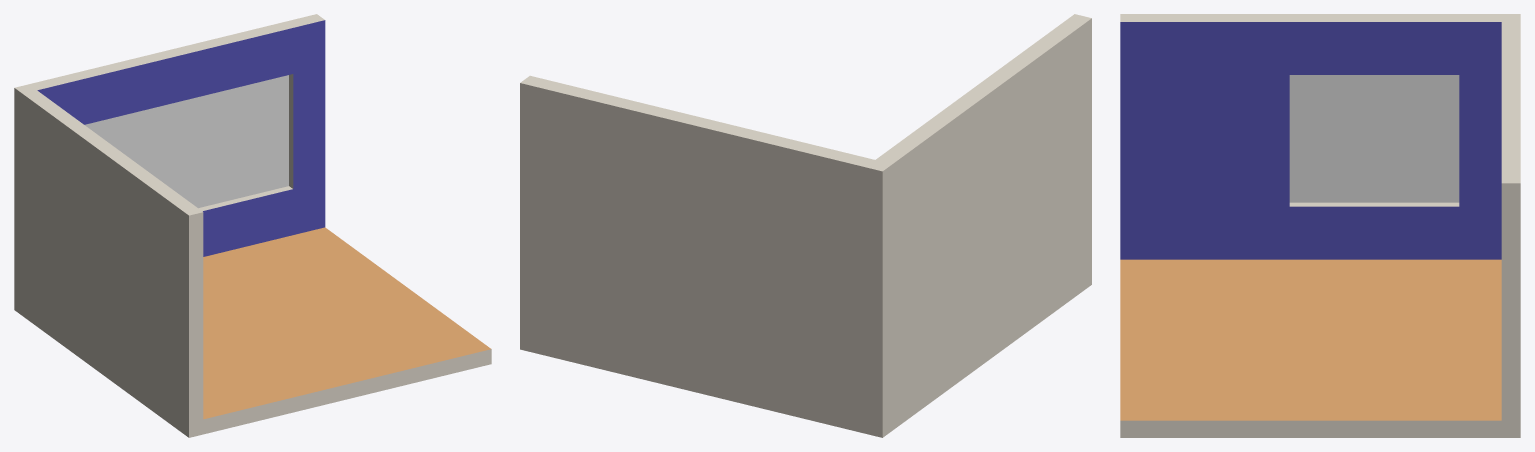
The model's file is Room.fbx.
The picture shows the model from 3 angles, left to right: view 1: azimuth 30°, elevation 25°; view 2: azimuth 150°, elevation 25°; view 3: azimuth 270°, elevation 25°; orthographic projection. The views are drawn at different scales.
Parts seen in each view (by area): view 1: Room; view 2: Room; view 3: Room.
Part boxes in pixels (x1,y1,x2,y2): Room: (14, 14, 491, 437); Room: (520, 14, 1091, 437); Room: (1120, 14, 1520, 437).
Size of the model in its own units: 840 by 590 by 840.
